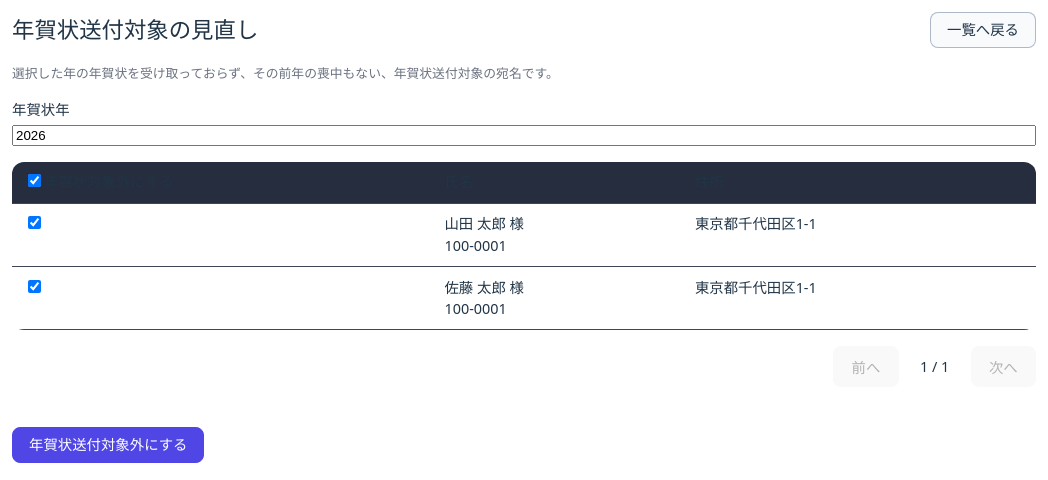
Test: NengaTargetReviewPage › checks every candidate and disables the button when none remain
Check: the checkbox named "佐藤 太郎 様 を年賀状対象外にする" is checked, box top-left (28, 280), bottom-right (41, 293)
Click the checkbox named "山田 太郎 様 を年賀状対象外にする".
click(34, 223)  # box top-left (28, 216), bottom-right (41, 229)
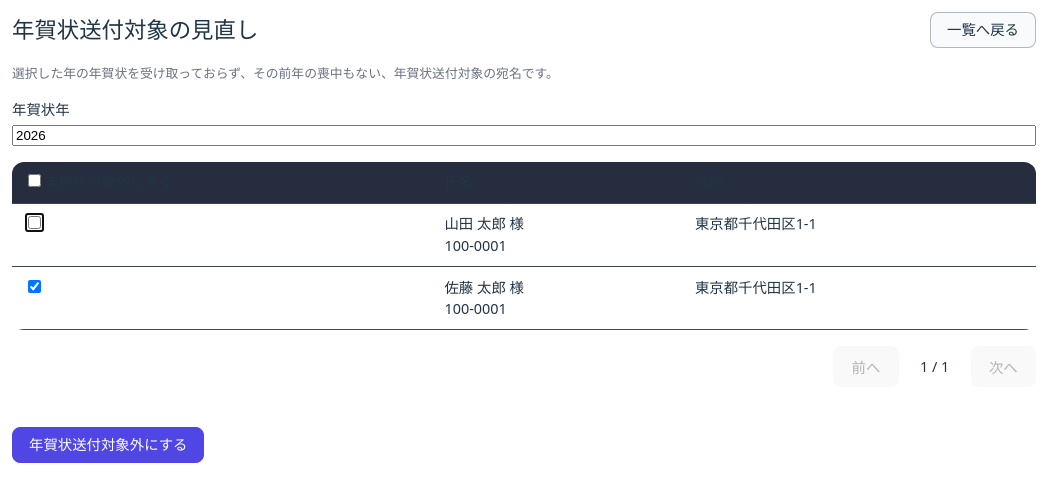
Click the checkbox named "佐藤 太郎 様 を年賀状対象外にする".
click(34, 286)  # box top-left (28, 280), bottom-right (41, 293)
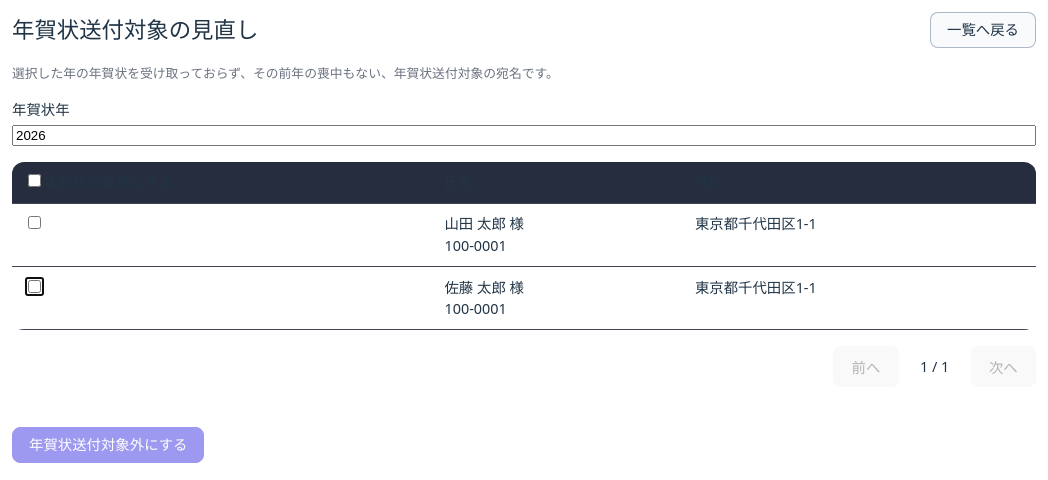
Check: the button "年賀状送付対象外にする" is disabled, box top-left (12, 427), bottom-right (204, 463)
Replace the text in the number field labelled "年賀状年" with "2025" at [524, 135], box top-left (12, 125), bottom-right (1036, 146)
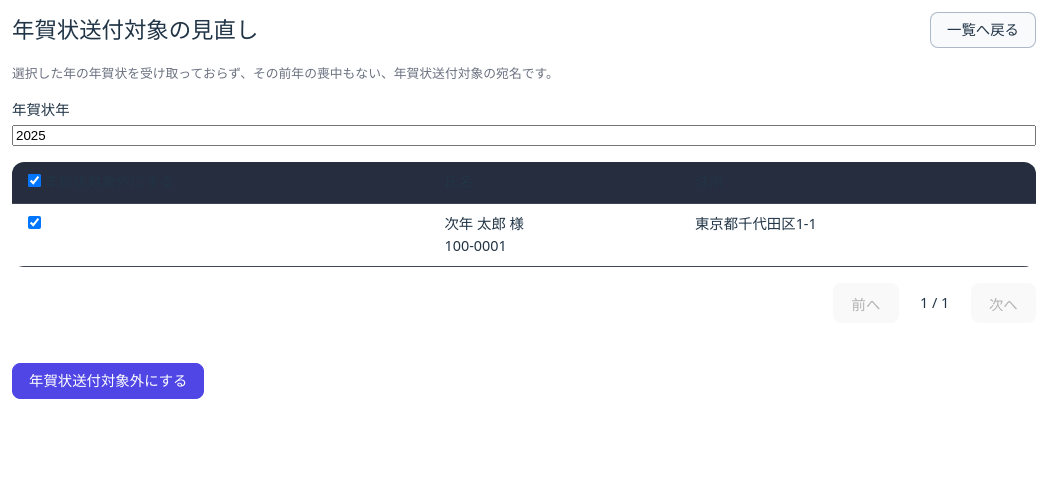
Check: the checkbox named "次年 太郎 様 を年賀状対象外にする" is checked, box top-left (28, 216), bottom-right (41, 229)
